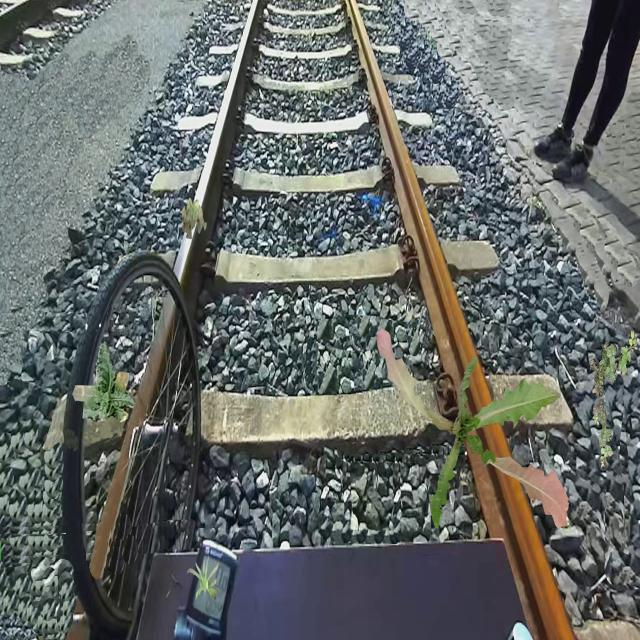Plant: (376, 328, 568, 530), (590, 331, 638, 469), (72, 340, 136, 423), (187, 555, 220, 601), (181, 197, 207, 240)
